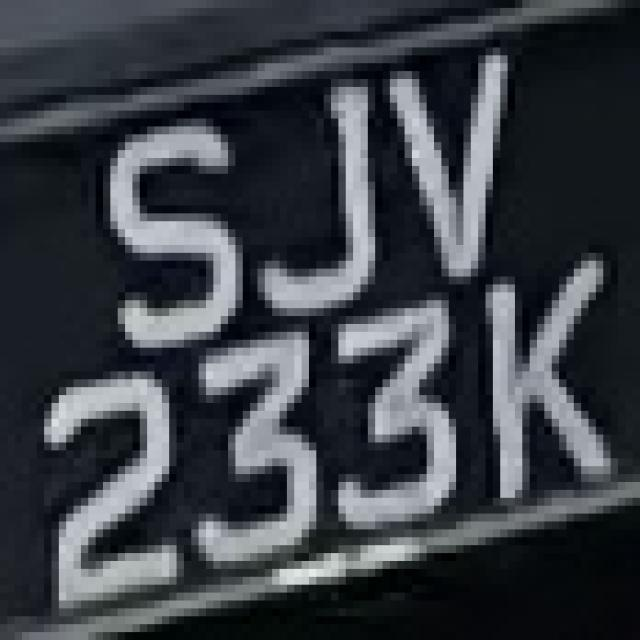2: (0, 371, 199, 632)
3: (162, 316, 324, 569), (316, 292, 456, 569)
J: (243, 71, 390, 340)
K: (463, 268, 618, 522)
S: (88, 119, 250, 348)
V: (360, 32, 530, 284)
